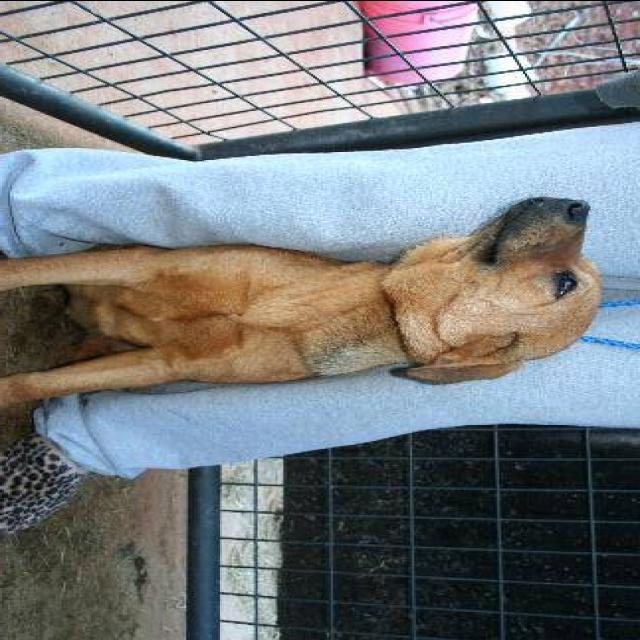dog: (0, 188, 620, 420)
